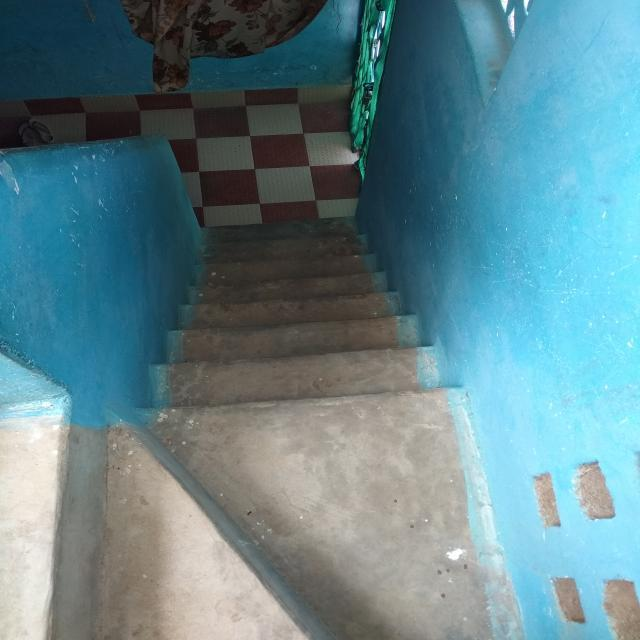stair: (98, 191, 470, 431)
